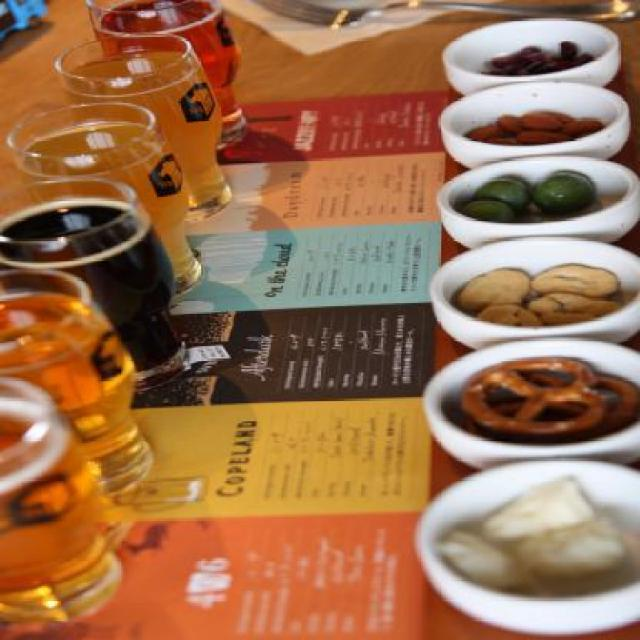Salatini packaged: (459, 357, 607, 448), (463, 371, 640, 447)
